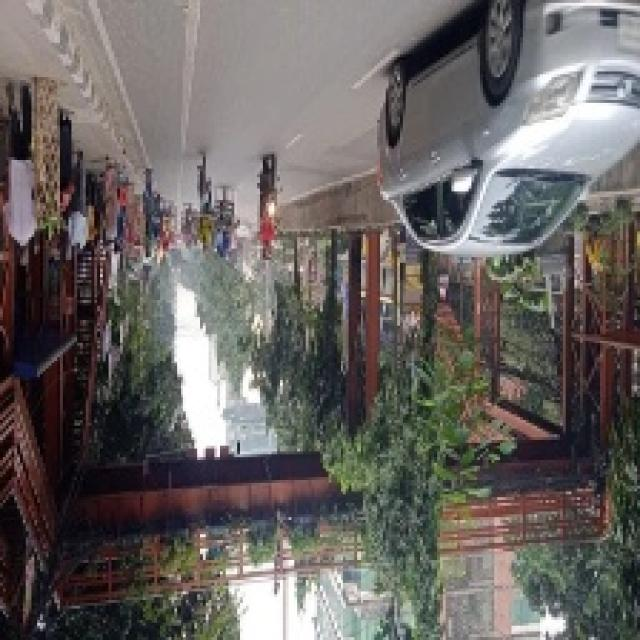bike: (255, 147, 285, 234)
car: (371, 25, 637, 270)
rickshaw: (212, 187, 237, 259)
